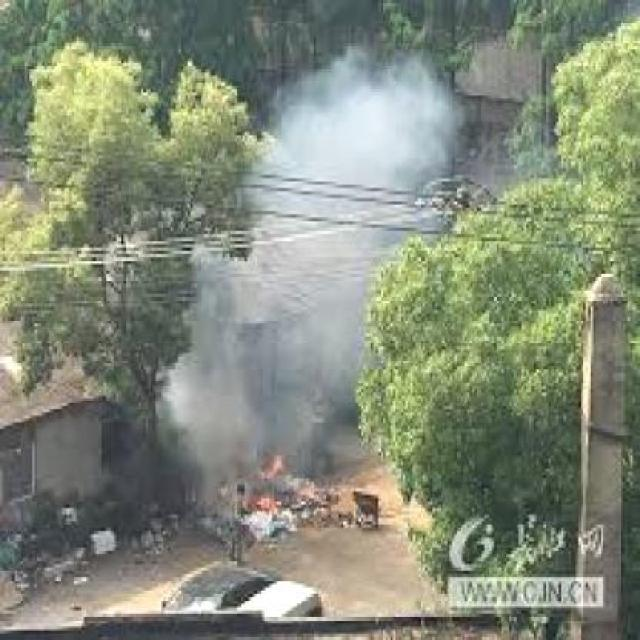Smoke: (156, 39, 476, 484)
